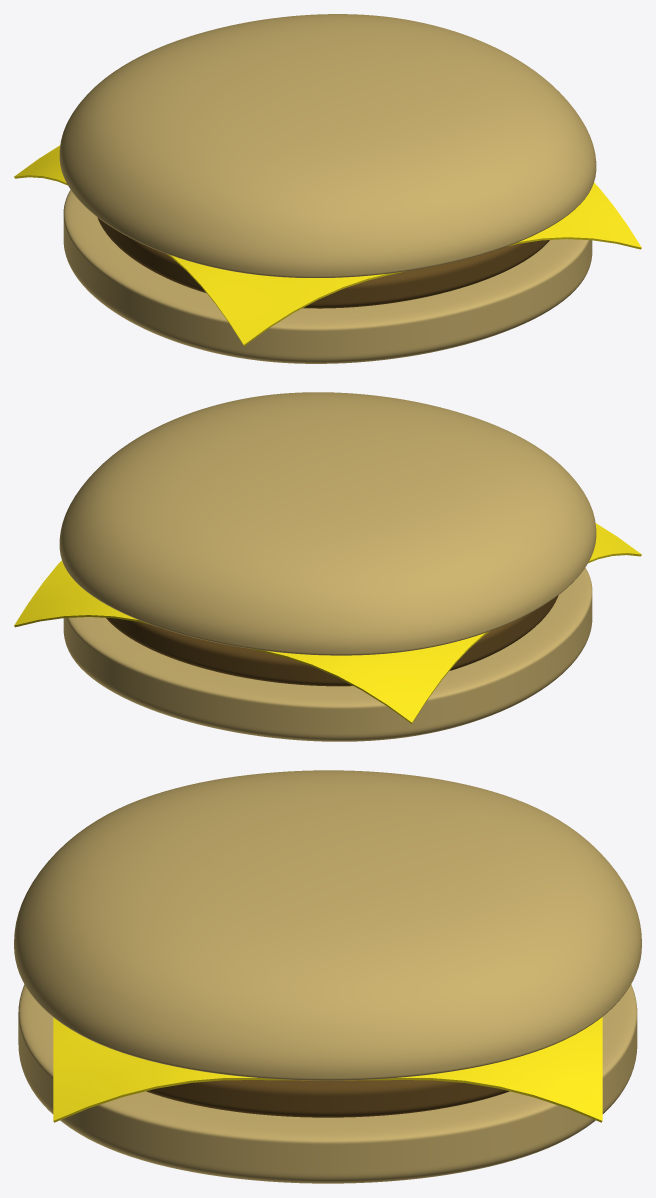
Rendered from Burger.glb.
3 views of the same model, one above another, from view 1: azimuth 30°, elevation 25°; view 2: azimuth 150°, elevation 25°; view 3: azimuth 270°, elevation 25° (orthographic). The views are drawn at different scales.
Parts seen in each view (by area): view 1: Cube.002, Cube, Plane, Cube.001; view 2: Cube.002, Cube, Plane, Cube.001; view 3: Cube.002, Cube, Plane, Cube.001.
Boxes of the visible parts, <box> form: Cube.002: <box>59,14,596,277</box>; Cube: <box>63,190,592,363</box>; Plane: <box>14,145,641,345</box>; Cube.001: <box>97,217,549,308</box>; Cube.002: <box>59,392,596,655</box>; Cube: <box>63,567,592,741</box>; Plane: <box>14,523,641,723</box>; Cube.001: <box>106,595,558,686</box>; Cube.002: <box>14,770,641,1080</box>; Cube: <box>18,984,637,1183</box>; Plane: <box>53,1017,602,1122</box>; Cube.001: <box>146,1080,509,1117</box>.
Size of the model in its own units: 19.7 by 7.86 by 19.7.
